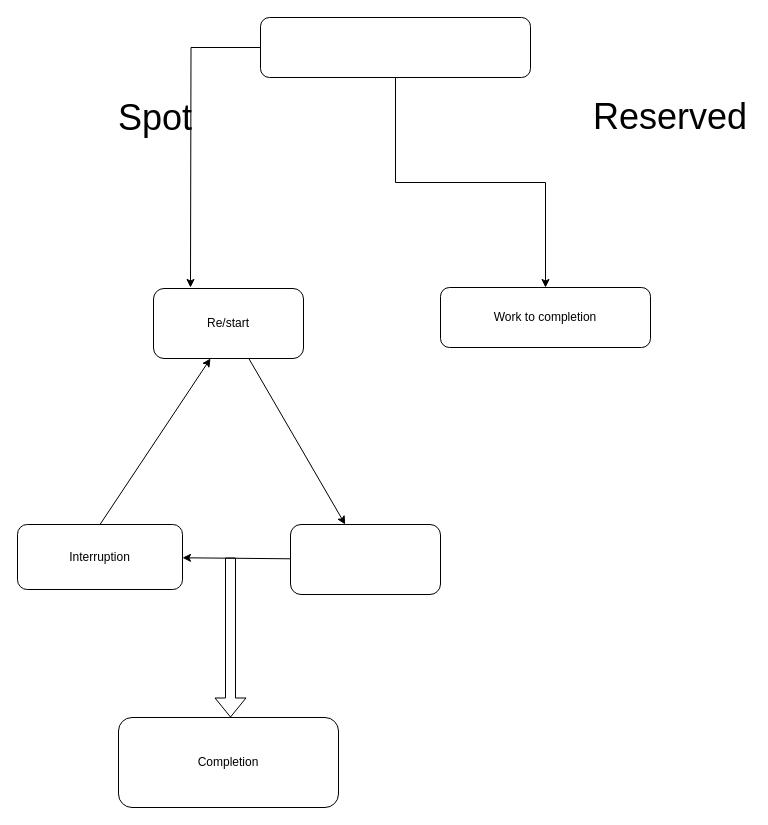
The diagram is 768 pixels wide and 825 high, and some of its shapes have lost their labels. Each missing label, with the centre of its shape:
"Cache at each milestone" goes at point (365, 559).
"Computational task" goes at point (395, 47).
